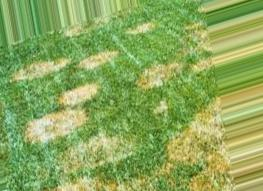patch: (164, 140, 221, 179), (192, 26, 218, 73), (25, 112, 89, 128), (190, 121, 221, 151), (70, 147, 127, 160), (66, 178, 122, 190), (26, 62, 66, 75), (63, 89, 97, 104), (92, 134, 119, 150), (148, 70, 170, 86), (65, 157, 94, 168), (84, 53, 109, 63), (32, 128, 56, 138), (129, 24, 150, 35), (70, 26, 89, 38), (157, 103, 165, 112)
